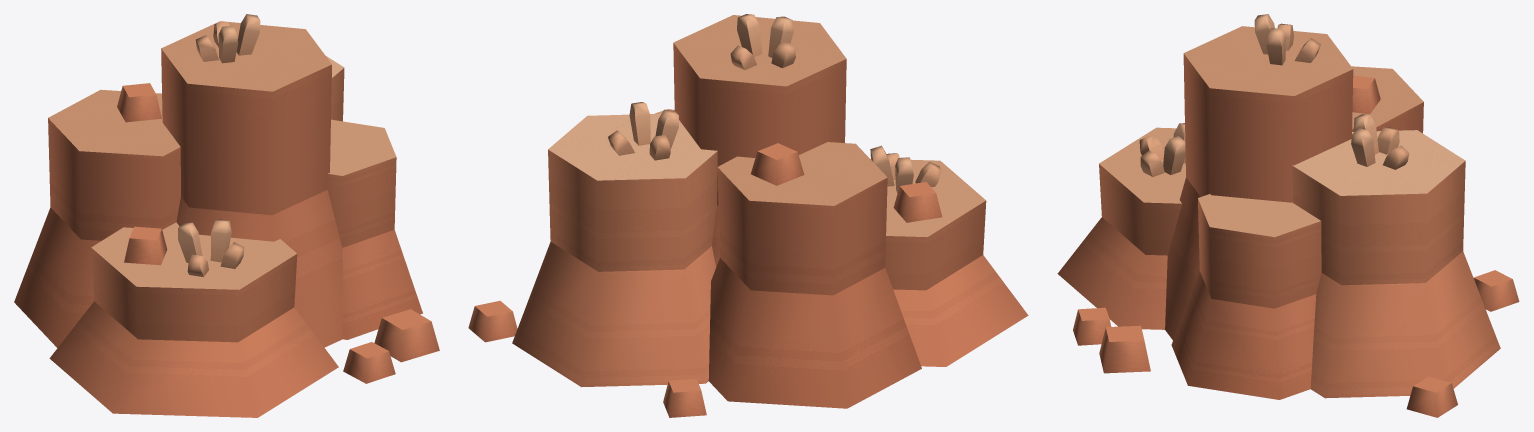
The model's file is rocks-sand-c.glb.
3 renders of one model, left to right at view 1: azimuth 30°, elevation 25°; view 2: azimuth 150°, elevation 25°; view 3: azimuth 270°, elevation 25°, orthographic. The views are drawn at different scales.
Parts seen in each view (by area): view 1: rocks-sand-c; view 2: rocks-sand-c; view 3: rocks-sand-c.
Boxes of the visible parts, x1=… form: rocks-sand-c: x1=14, y1=14, x2=439, y2=417; rocks-sand-c: x1=468, y1=14, x2=1028, y2=417; rocks-sand-c: x1=1057, y1=14, x2=1519, y2=417.
Size of the model in its own units: 3.71 by 2.61 by 3.72.
Materials: 1 (1 with a texture image).
